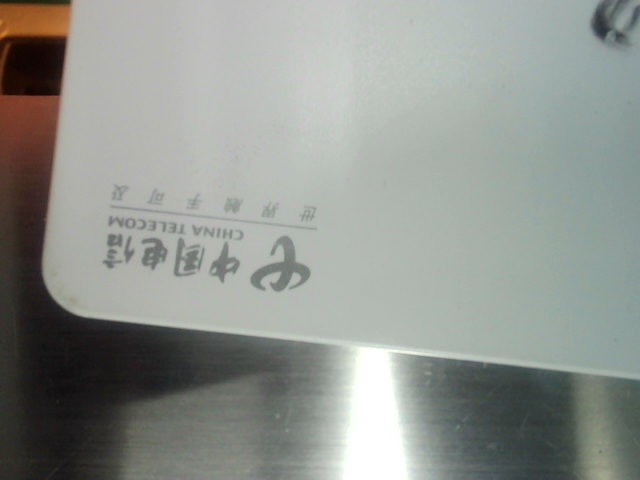AB_ChinaTelecom: (101, 180, 338, 291)
